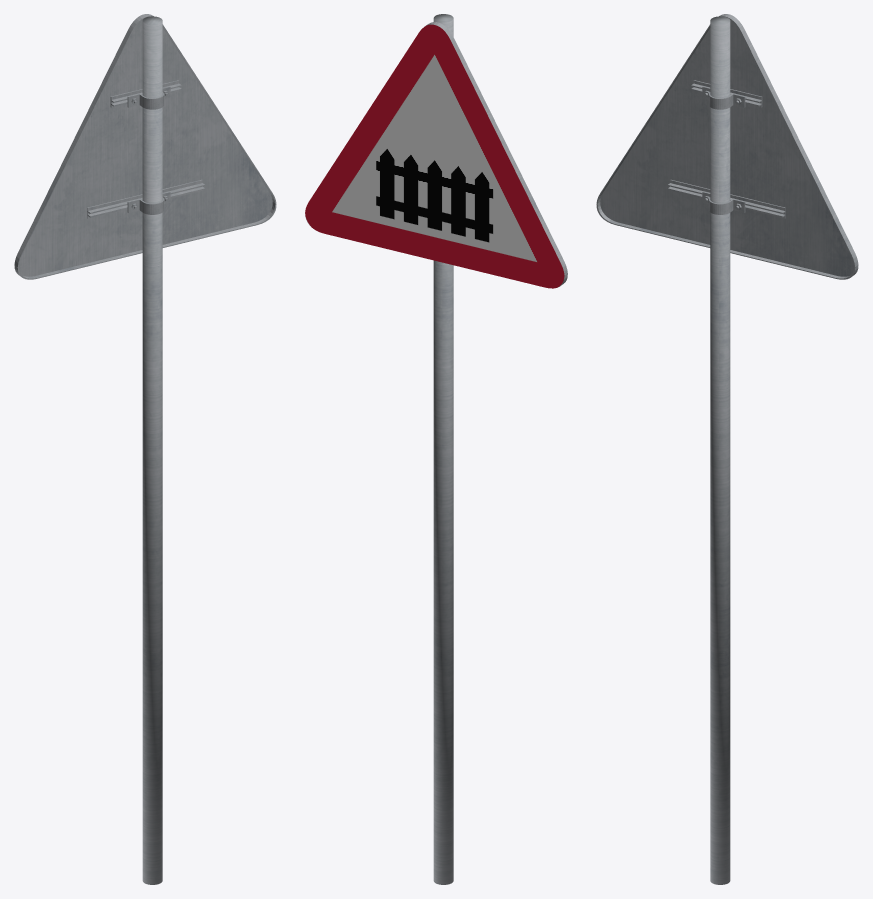
Rendered from Railway_crossings_with_barriers.fbx.
The picture shows the model from 3 angles, left to right: view 1: azimuth 30°, elevation 25°; view 2: azimuth 150°, elevation 25°; view 3: azimuth 330°, elevation 25°; orthographic projection.
Visible parts, largest first — view 1: Railway crossings with barriers; view 2: Railway crossings with barriers; view 3: Railway crossings with barriers.
Part boxes in pixels (box(x1,y1,x2,y2)): Railway crossings with barriers: box(14, 14, 276, 884); Railway crossings with barriers: box(305, 14, 567, 884); Railway crossings with barriers: box(596, 14, 858, 884).
Bounding box in the file's own units: 0.0876 × 0.9002 × 2.86.
